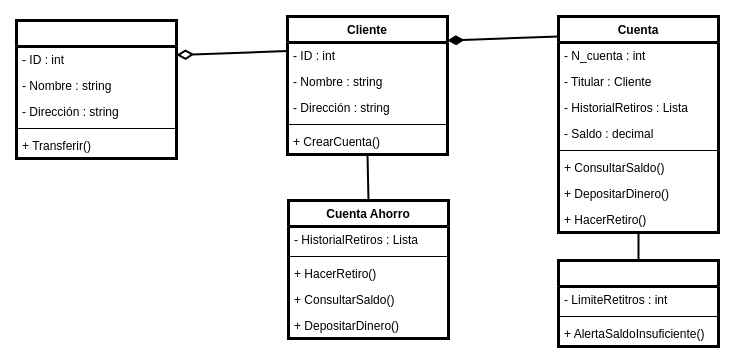
The diagram is 735 pixels wide and 363 high, and some of its shapes have lost their labels. Here are the shapes that lost their labels. From the top down, the box of each, then its label:
(14, 18, 178, 160): Banco
(556, 258, 720, 348): Cuenta corriente
